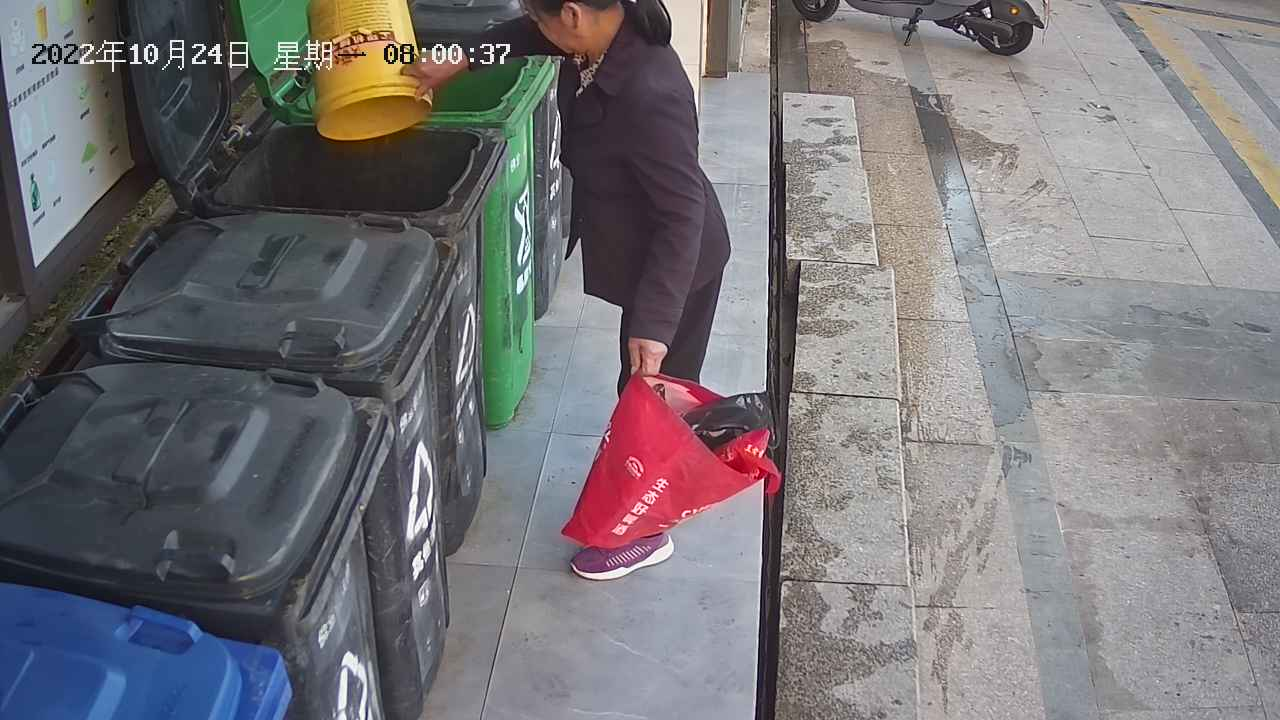garbage-bag: (557, 360, 791, 555)
person: (394, 1, 739, 585)
youtong: (294, 1, 437, 145)
